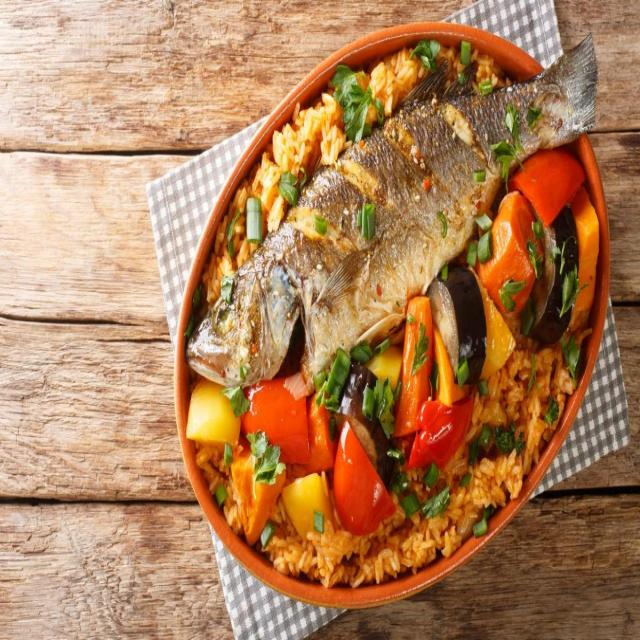pescado: (186, 34, 603, 400)
